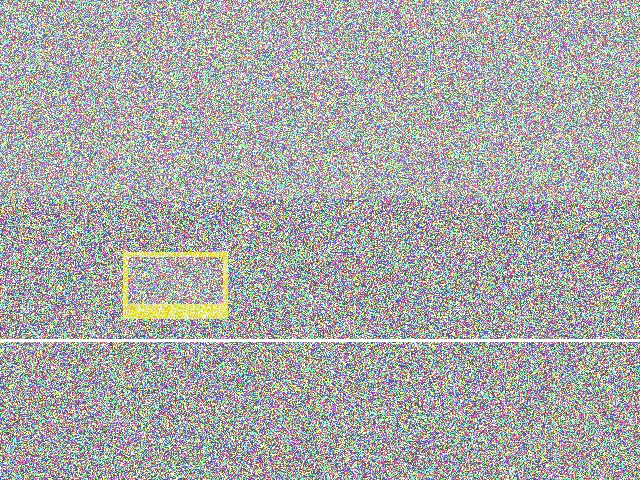motorcycle: (60, 89, 147, 225)
